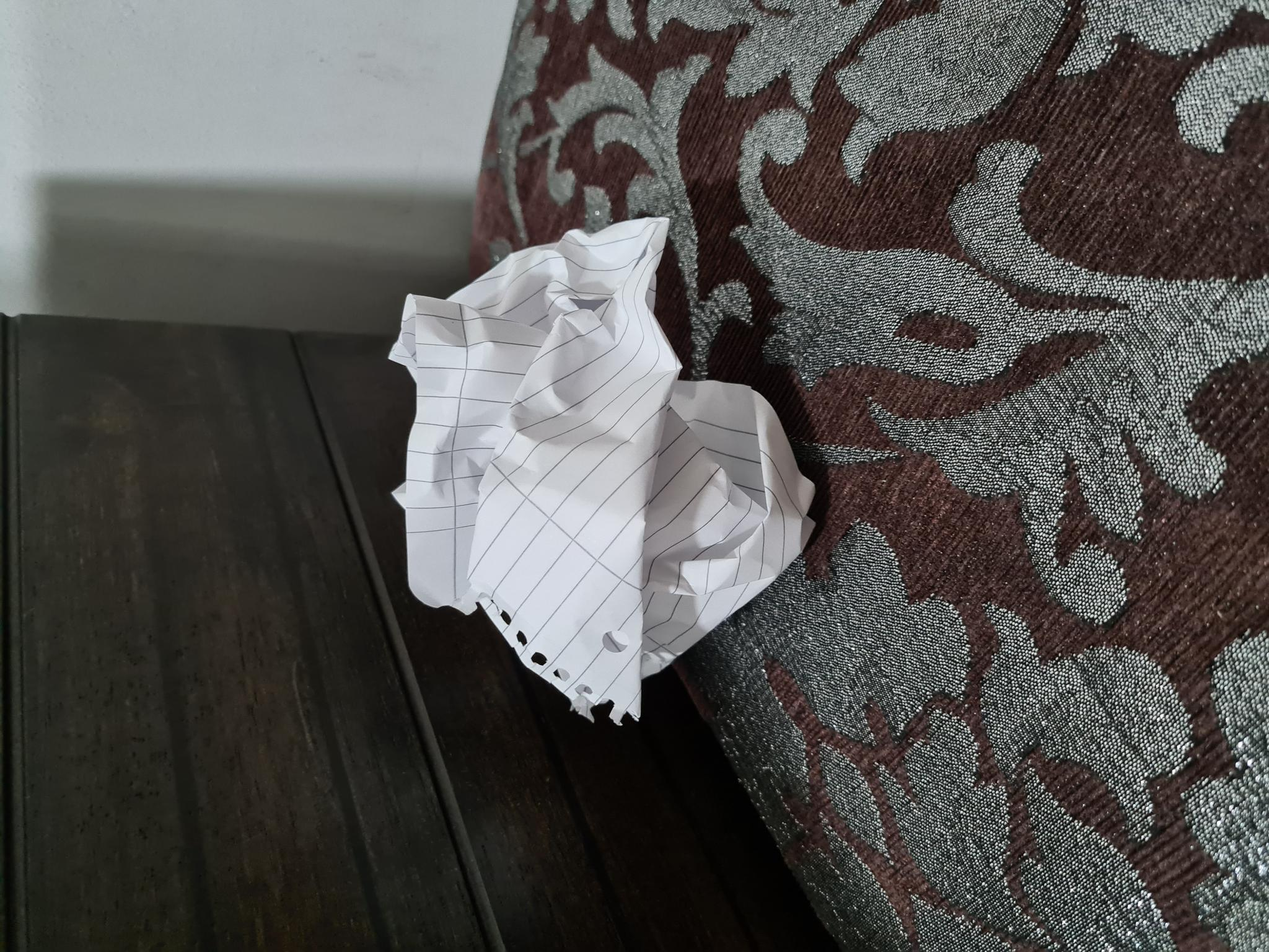Kertas: (231, 400, 742, 822)
